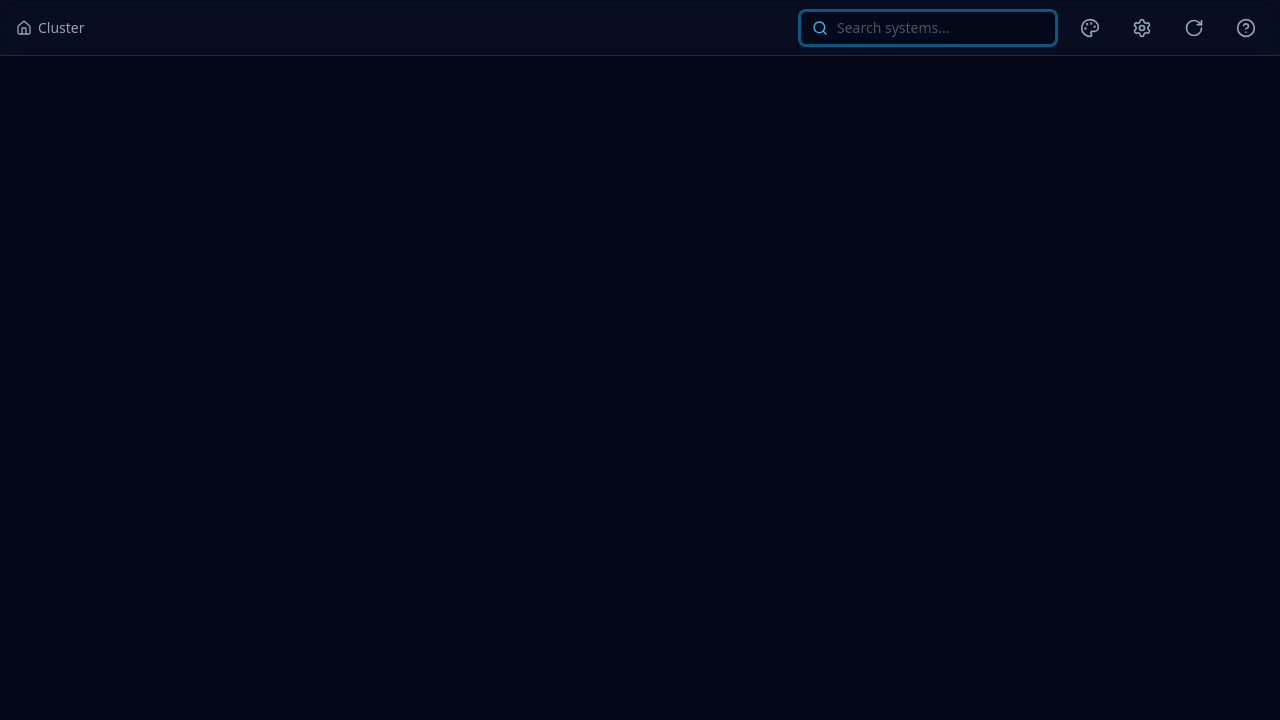
Scenario: Navigation component › does not regenerate when the dialog is cancelled
The image size is (1280, 720).
Click the button named "Generate New Cluster".
click(1194, 28)  # box [1176,10,1212,46]
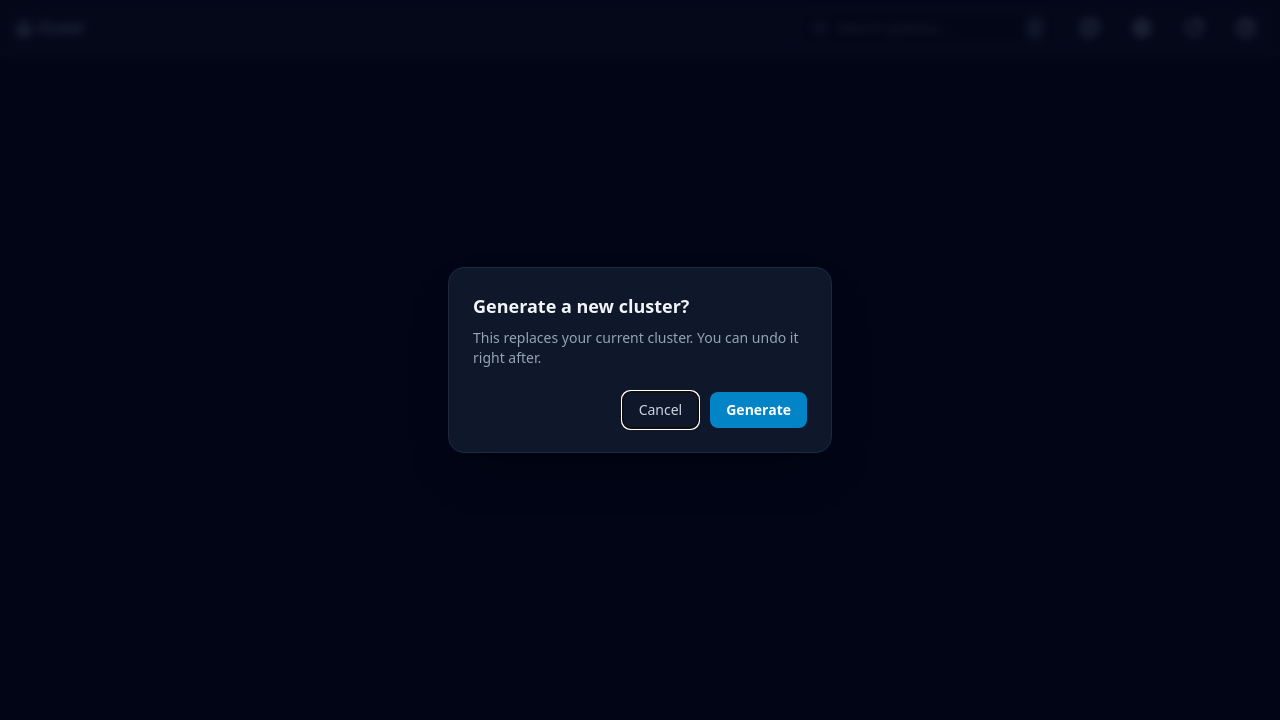
Click the button "Cancel".
click(660, 410)  # box [623,392,698,428]
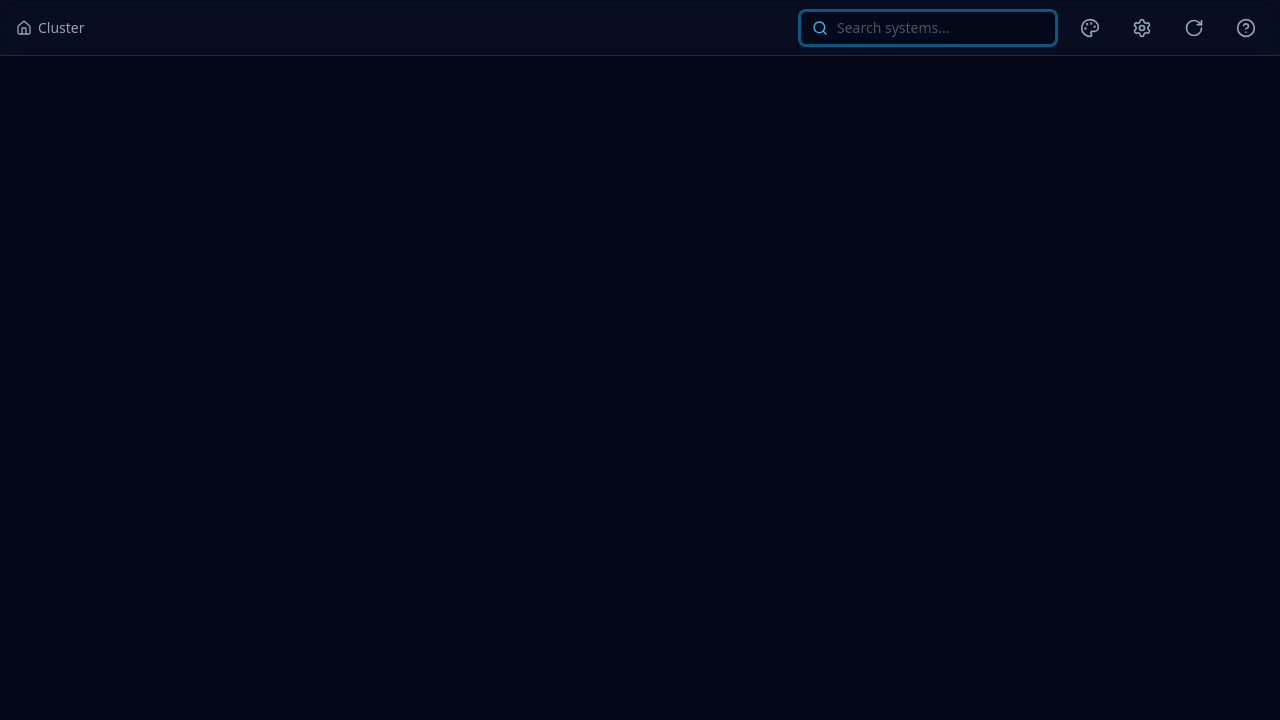
Now the heading "Generate a new cluster?" is gone
